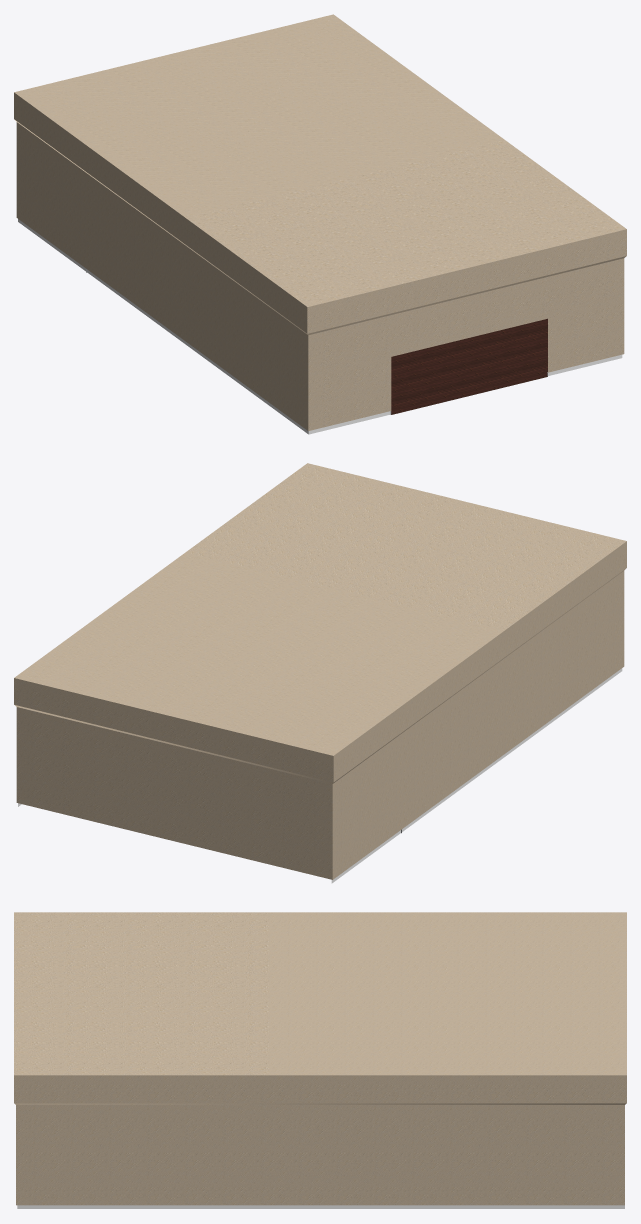
The model's file is AzrieliPavillionInterior.glb.
3 renders of one model, top to bottom at view 1: azimuth 30°, elevation 25°; view 2: azimuth 150°, elevation 25°; view 3: azimuth 270°, elevation 25°, orthographic. The views are drawn at different scales.
Visible parts, largest first — view 1: AzrieliPavillionInterior; view 2: AzrieliPavillionInterior; view 3: AzrieliPavillionInterior.
Boxes of the visible parts, <box> form: AzrieliPavillionInterior: <box>14,14,626,434</box>; AzrieliPavillionInterior: <box>14,463,626,883</box>; AzrieliPavillionInterior: <box>14,912,626,1208</box>.
Size of the model in its own units: 12.91 by 5 by 20.54.
6 materials, 6 textured.
